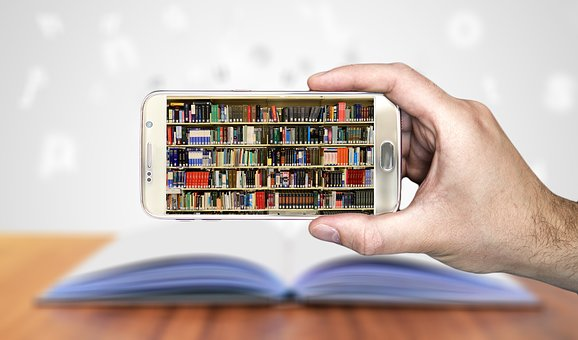mobile: (137, 89, 415, 223)
